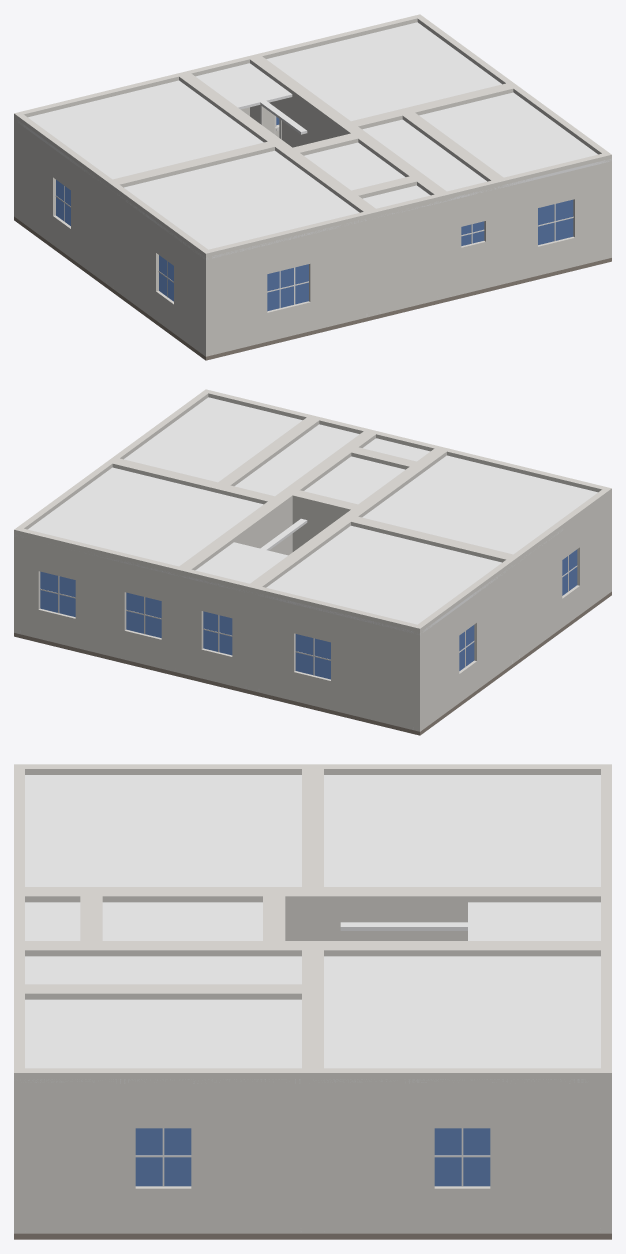
File: interior-second-v001.glb
3 views of the same model, one above another, from view 1: azimuth 30°, elevation 25°; view 2: azimuth 150°, elevation 25°; view 3: azimuth 270°, elevation 25° (orthographic). The views are drawn at different scales.
Parts seen in each view (by area): view 1: interior-second-v001; view 2: interior-second-v001; view 3: interior-second-v001.
Part boxes in pixels (x1,y1,x2,y2): interior-second-v001: (14,14,611,360); interior-second-v001: (14,389,611,735); interior-second-v001: (14,764,611,1239).
Size of the model in its own units: 13.2 by 3.32 by 10.8.
